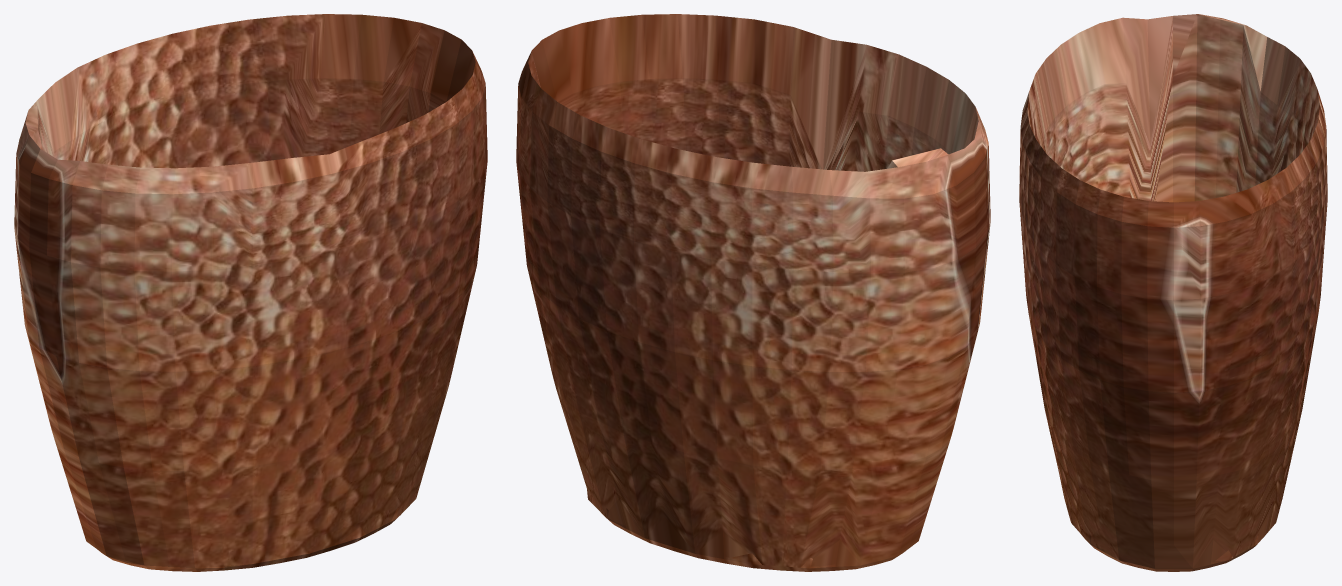
File: Jarron.fbx
3 views of the same model, side by side, from view 1: azimuth 30°, elevation 25°; view 2: azimuth 150°, elevation 25°; view 3: azimuth 270°, elevation 25° (orthographic). The views are drawn at different scales.
Visible parts, largest first — view 1: Baso 3; view 2: Baso 3; view 3: Baso 3.
Boxes of the visible parts, x1,y1,x2,y2 form: Baso 3: (14, 14, 487, 571); Baso 3: (516, 14, 990, 571); Baso 3: (1019, 14, 1327, 571).
Size of the model in its own units: 0.7161 by 0.6678 by 0.4612.
1 material, 1 textured.
